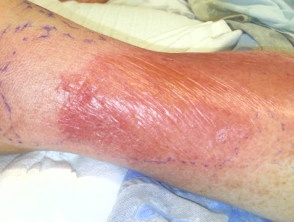SJS-TEN: (45, 45, 294, 178)
